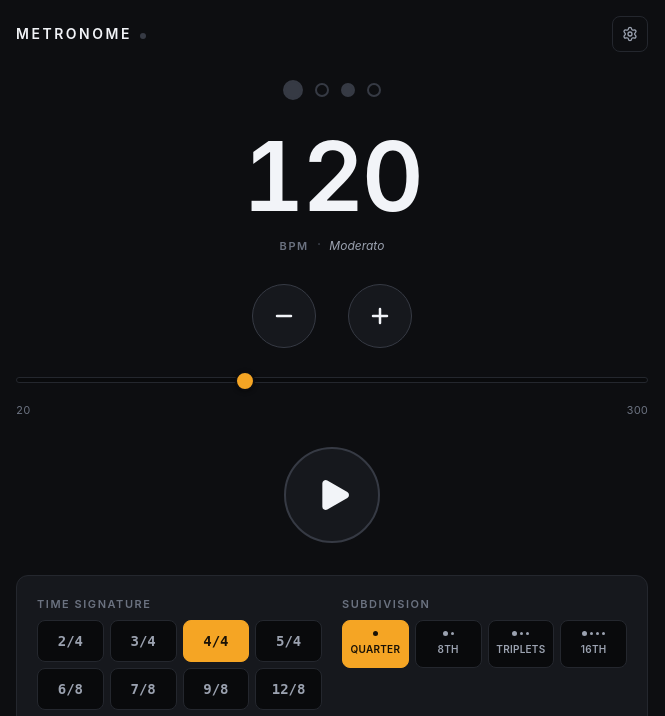
Test case: App › changes the meter and resizes the beat indicator
Click the radio button named "5 beats per measure" at (289, 641), box [255,620,322,662]
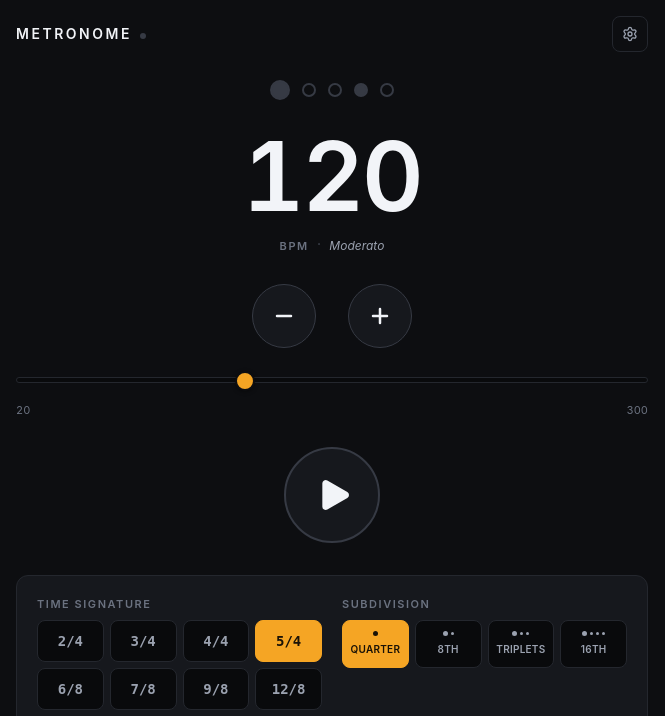
Result: the element named "of 5" is shown at [270,80,394,100]
